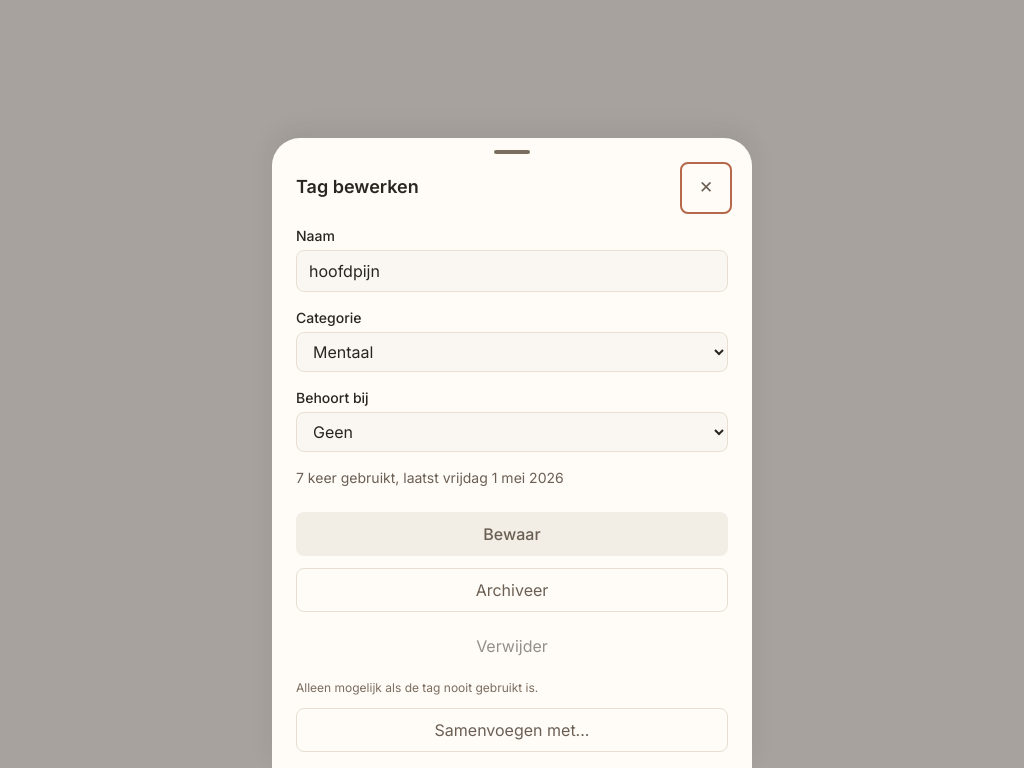
Test: <TagFormSheet /> › Samenvoegen integration › test 47: tapping a target row in the picker renders a confirm with source.usage_count in the prompt
Click the button "Samenvoegen met..." at point(512, 730), box [296,708,728,752]
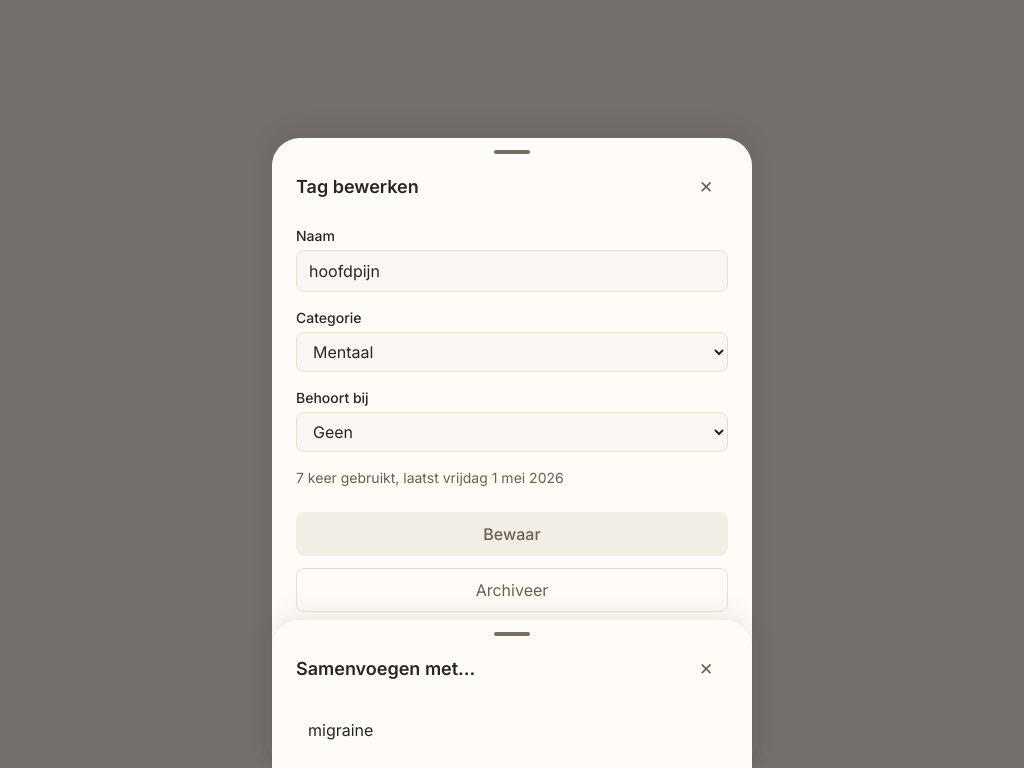
Click the button "migraine" at point(341, 730), box [296,708,728,752]
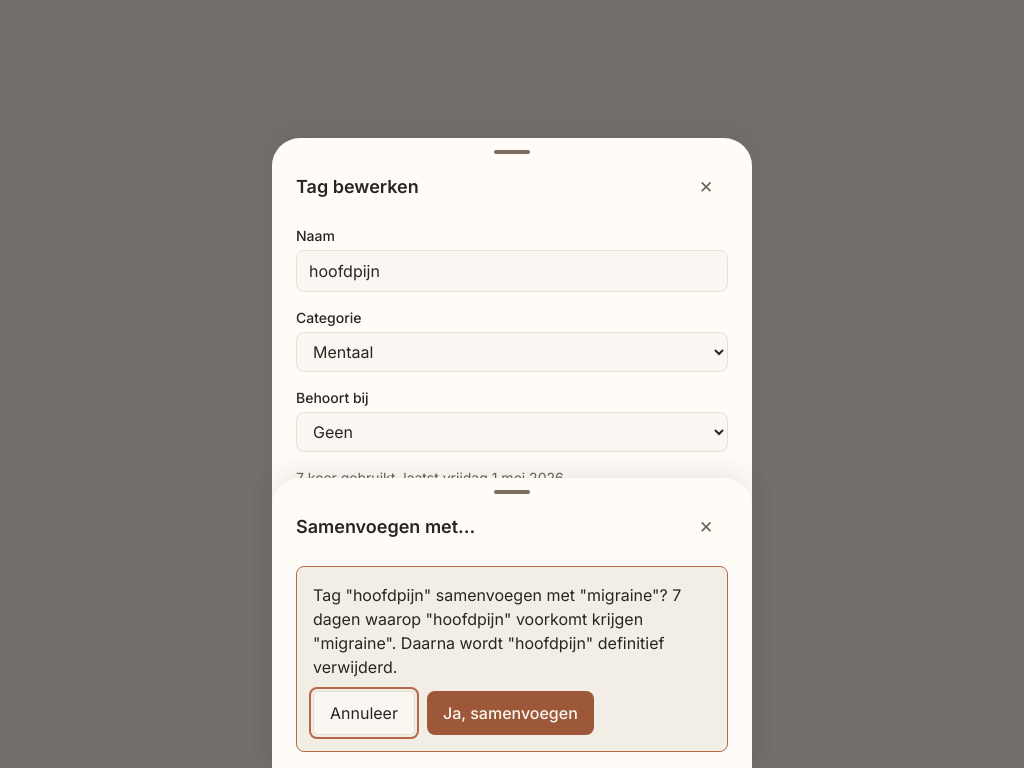
Expected: the 2nd dialog shows "7 dagen", [313,585,681,677]
Expected: the 2nd dialog shows "hoofdpijn", [313,585,681,677]
Expected: the 2nd dialog shows "migraine", [313,585,681,677]
